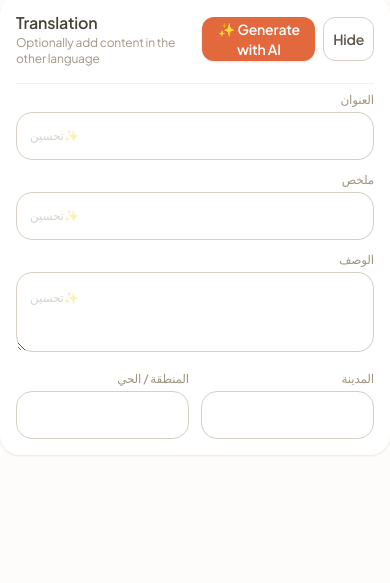
it: TranslationEditor AI generation › shows the rate-limit message on 429 responses
This screenshot has width=390, height=583.
Click the button "✨ Generate with AI" at (259, 39), box [202,17,316,61]
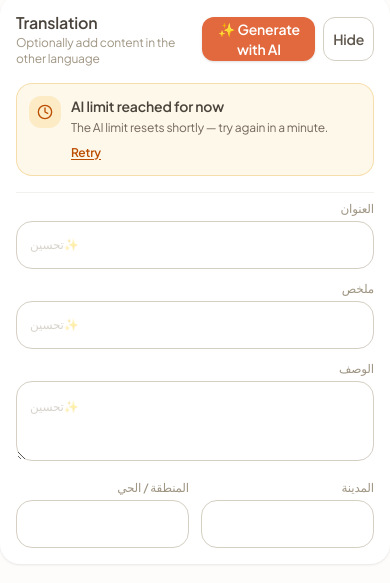
Expected: the message shows "AI limit reached for now", [71,97,224,115]
Expected: the message shows "The AI limit resets shortly — try again in a minute.", [71,120,328,135]
